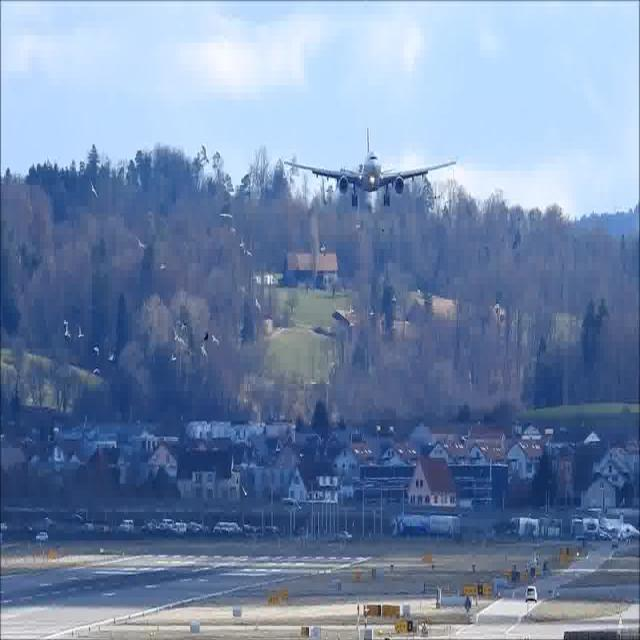bird: (173, 328, 186, 343), (218, 209, 232, 221), (90, 179, 98, 199), (64, 325, 72, 343), (168, 353, 178, 366), (77, 326, 86, 340), (136, 236, 147, 247), (200, 342, 208, 357), (210, 332, 218, 346), (94, 345, 101, 357), (240, 240, 247, 252), (92, 366, 100, 376), (255, 299, 261, 311), (109, 355, 116, 363), (159, 262, 166, 270)
